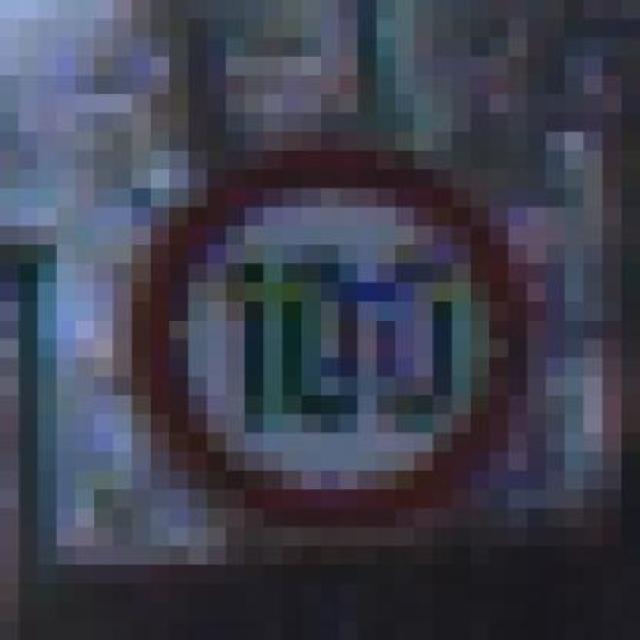forb_speed_over_100: (150, 144, 519, 527)
